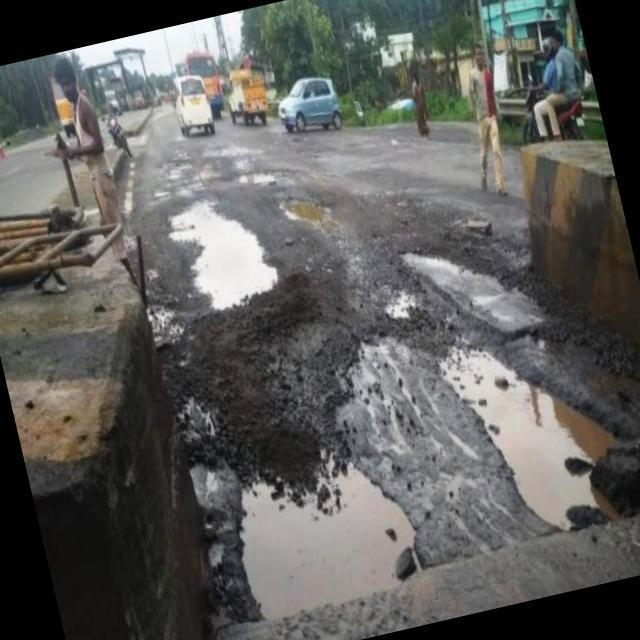Pothole: (439, 351, 608, 531), (232, 468, 415, 621)
